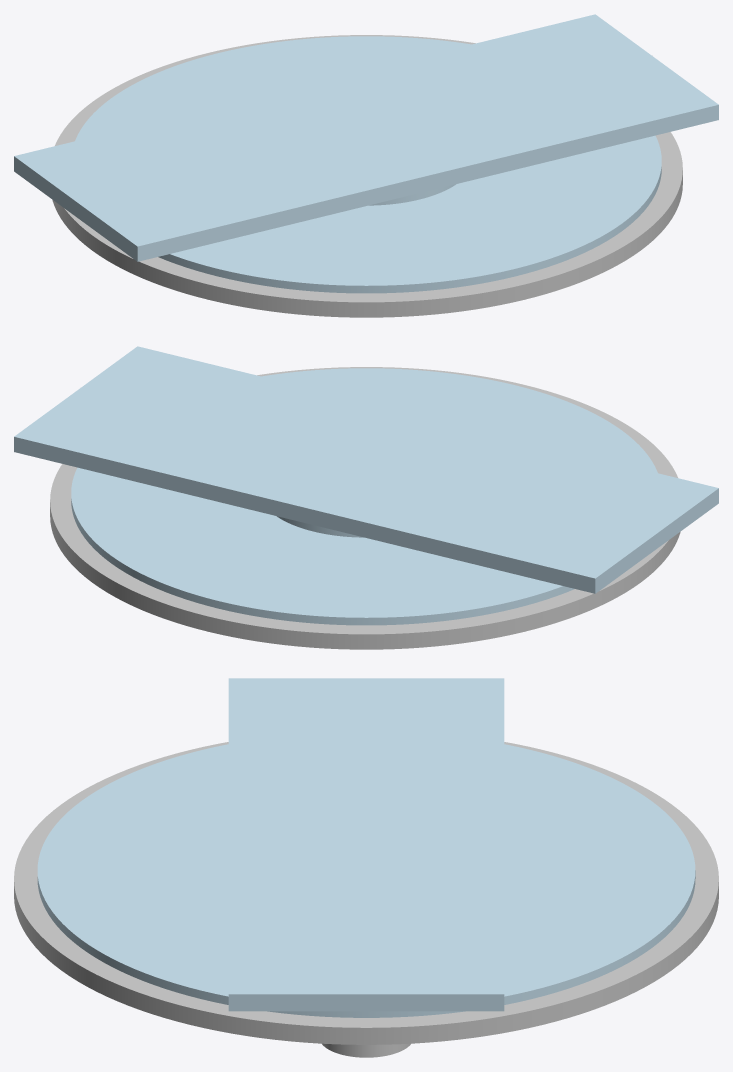
File: Enclosure Handle.gltf
3 views of the same model, one above another, from view 1: azimuth 30°, elevation 25°; view 2: azimuth 150°, elevation 25°; view 3: azimuth 270°, elevation 25° (orthographic). The views are drawn at different scales.
Visible parts, largest first — view 1: Part 1, Part 2; view 2: Part 1, Part 2; view 3: Part 1, Part 2.
Part boxes in pixels (x1,y1,x2,y2): Part 1: (14,14,718,293); Part 2: (52,35,682,317); Part 1: (14,346,718,625); Part 2: (50,367,680,649); Part 1: (37,678,695,1017); Part 2: (14,742,718,1057).
Bounding box in the file's own units: 0.0796 × 0.012 × 0.075.
